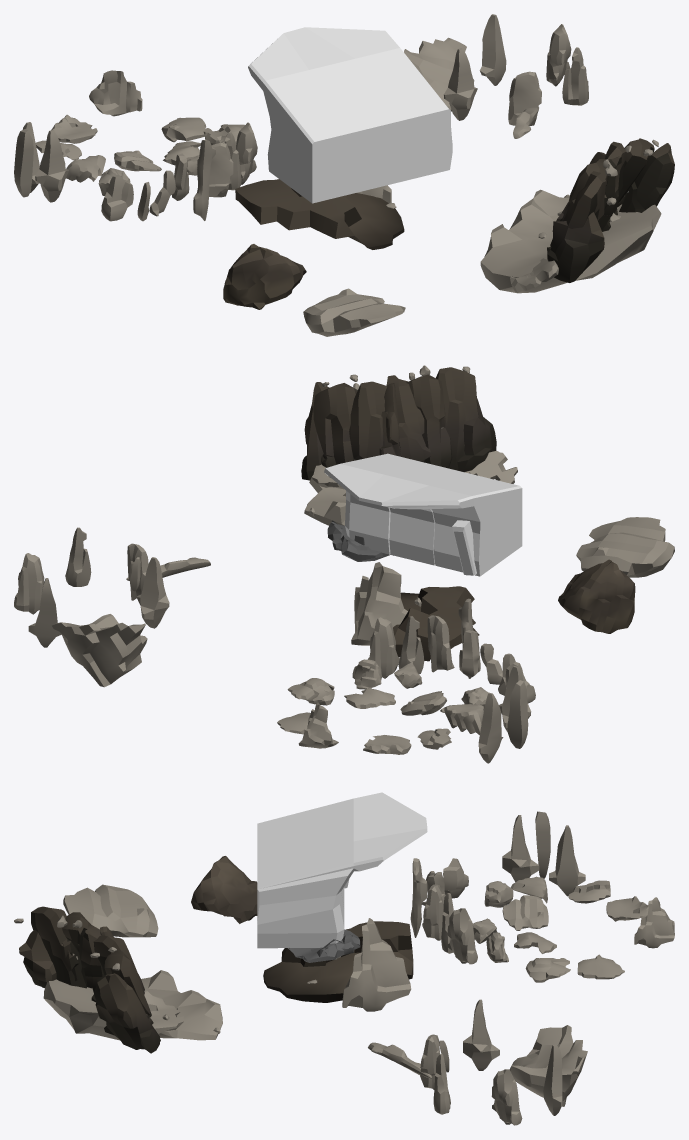
File: AllRock.fbx
3 views of the same model, one above another, from view 1: azimuth 30°, elevation 25°; view 2: azimuth 150°, elevation 25°; view 3: azimuth 270°, elevation 25° (orthographic).
Visible parts, largest first — view 1: HugeRock_LOD0, Small4Rack_LOD0, rock.070, rock.046, rock.047, rock.061, rock.044, rock.026, rock.004, rock.043, rock.025, rock.029 (+16 smaller); view 2: HugeRock_LOD0, Small4Rack_LOD0, rock.061, rock.044, rock.047, rock.046, rock.005, rock.070, rock.043, rock.042, rock.008, rock.018 (+17 smaller); view 3: HugeRock_LOD0, Small4Rack_LOD0, rock.070, rock.046, rock.005, rock.061, rock.044, rock.047, rock.026, rock.018, rock.043, rock.006 (+20 smaller).
Part boxes in pixels (x1,y1,x2,y2): HugeRock_LOD0: [248, 27, 452, 203]; Small4Rack_LOD0: [547, 138, 674, 282]; rock.070: [480, 189, 661, 293]; rock.046: [235, 179, 404, 249]; rock.047: [223, 244, 306, 309]; rock.061: [303, 288, 405, 336]; rock.044: [404, 37, 474, 111]; rock.026: [89, 70, 142, 116]; rock.004: [35, 130, 68, 202]; rock.043: [444, 48, 477, 120]; rock.025: [479, 14, 506, 85]; rock.029: [508, 71, 541, 125]; HugeRock_LOD0: [324, 453, 522, 576]; Small4Rack_LOD0: [301, 367, 496, 480]; rock.061: [576, 517, 674, 577]; rock.044: [52, 614, 147, 687]; rock.047: [558, 559, 635, 633]; rock.046: [393, 586, 479, 661]; rock.005: [351, 562, 407, 645]; rock.070: [304, 450, 517, 525]; rock.043: [136, 557, 169, 628]; rock.042: [14, 553, 44, 614]; rock.008: [368, 617, 399, 678]; rock.018: [478, 692, 503, 763]; HugeRock_LOD0: [257, 792, 427, 948]; Small4Rack_LOD0: [19, 906, 160, 1053]; rock.070: [43, 970, 222, 1040]; rock.046: [263, 921, 413, 1002]; rock.005: [342, 918, 411, 1011]; rock.061: [63, 884, 158, 937]; rock.044: [509, 1025, 587, 1106]; rock.047: [191, 856, 257, 923]; rock.026: [634, 897, 674, 948]; rock.018: [549, 825, 585, 896]; rock.043: [463, 999, 499, 1070]; rock.006: [502, 895, 548, 930].
Size of what is drawn, in the model's own units: 122 by 40.86 by 132.
